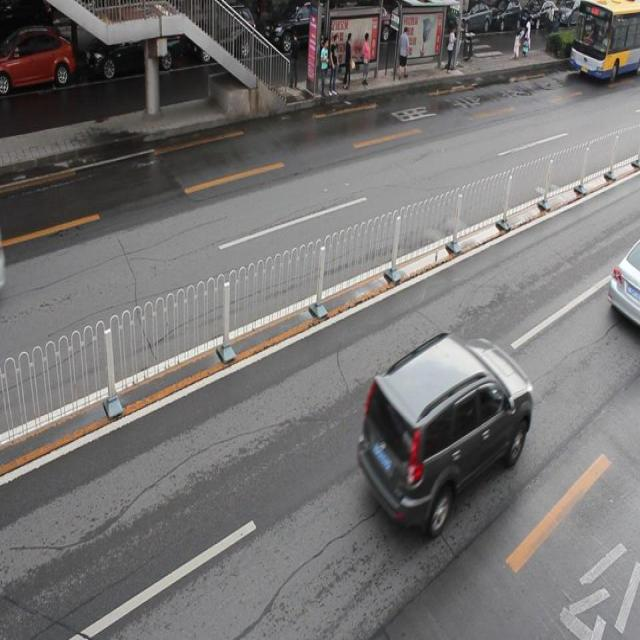car: (360, 330, 531, 525), (83, 24, 180, 82), (1, 30, 76, 96), (186, 1, 255, 64), (262, 1, 330, 58), (607, 236, 640, 329)
van: (570, 1, 640, 77)
